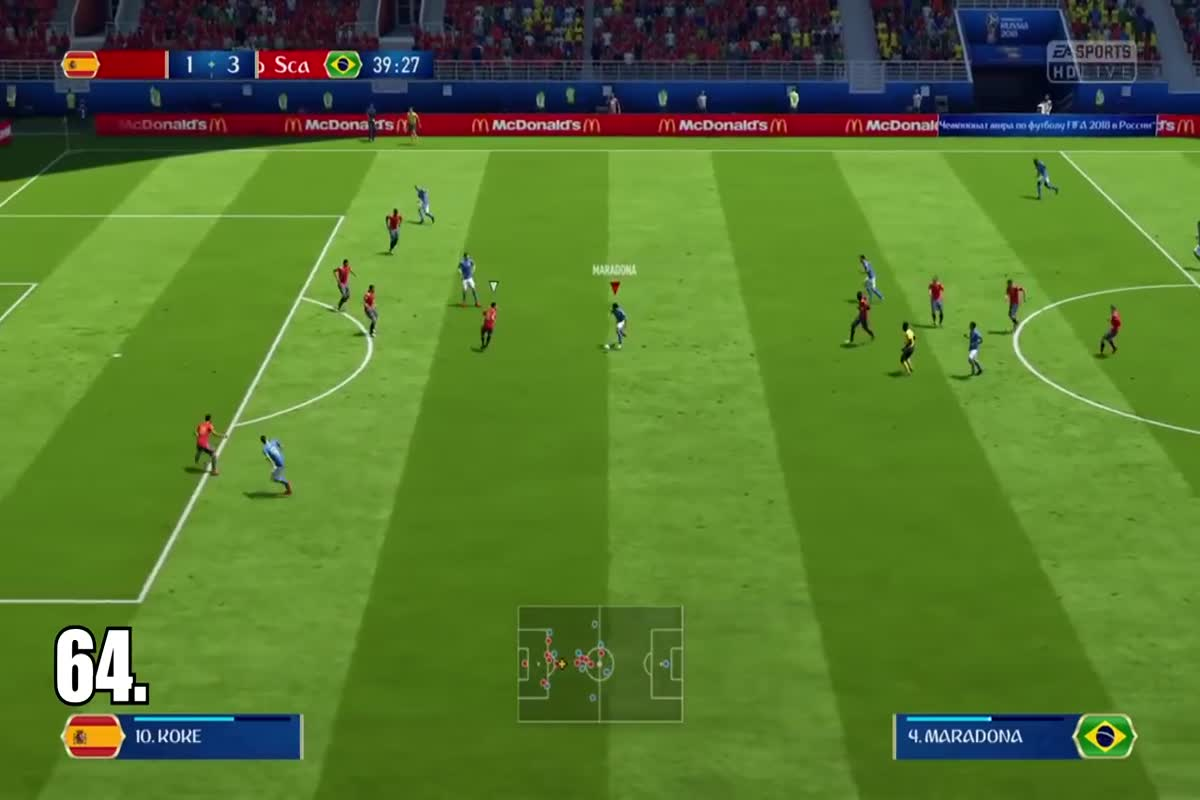ball: (599, 337, 617, 356)
